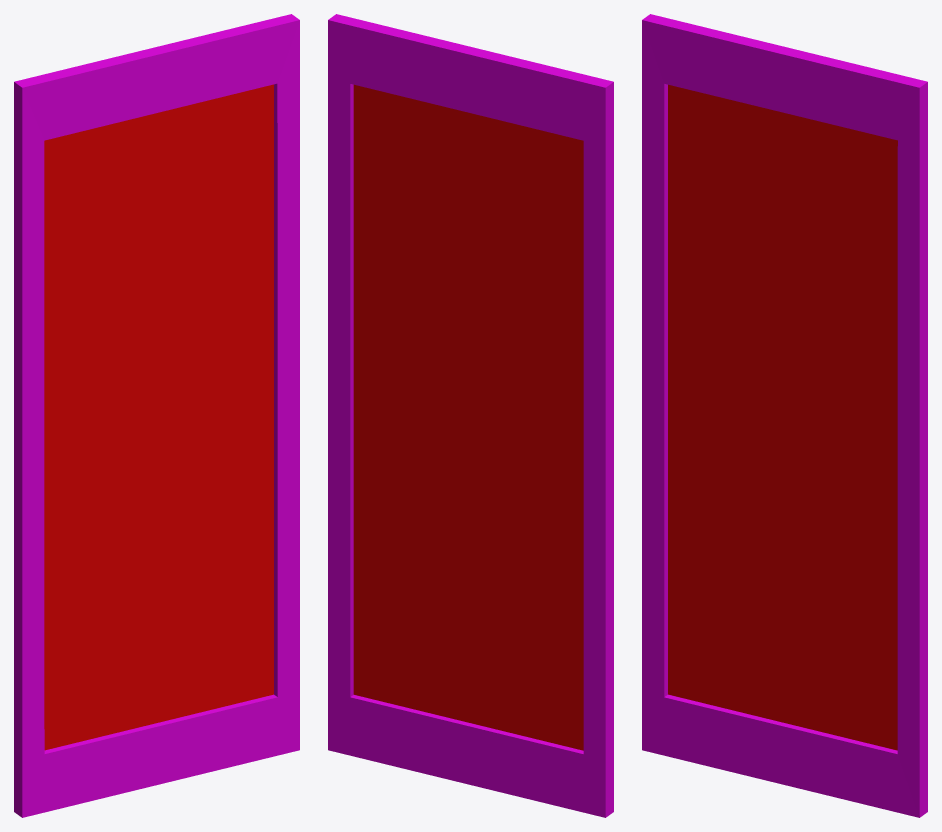
The model's file is Sliding Door.fbx.
3 renders of one model, left to right at view 1: azimuth 30°, elevation 25°; view 2: azimuth 150°, elevation 25°; view 3: azimuth 330°, elevation 25°, orthographic.
Visible parts, largest first — view 1: pCube1423; view 2: pCube1423; view 3: pCube1423.
Boxes of the visible parts, x1,y1,x2,y2 form: pCube1423: (14, 14, 299, 817); pCube1423: (328, 14, 613, 817); pCube1423: (642, 14, 927, 817).
Size of the model in its own units: 87.59 by 220 by 4.54.
